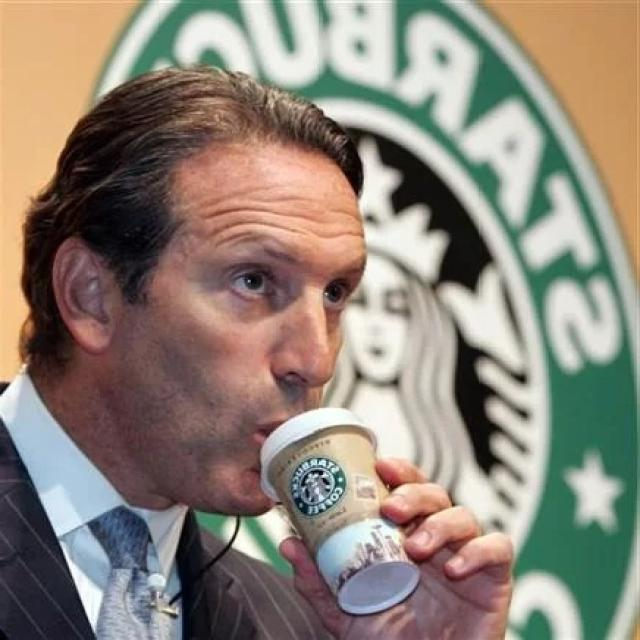starbucks: (363, 37, 634, 510), (284, 454, 350, 532)
